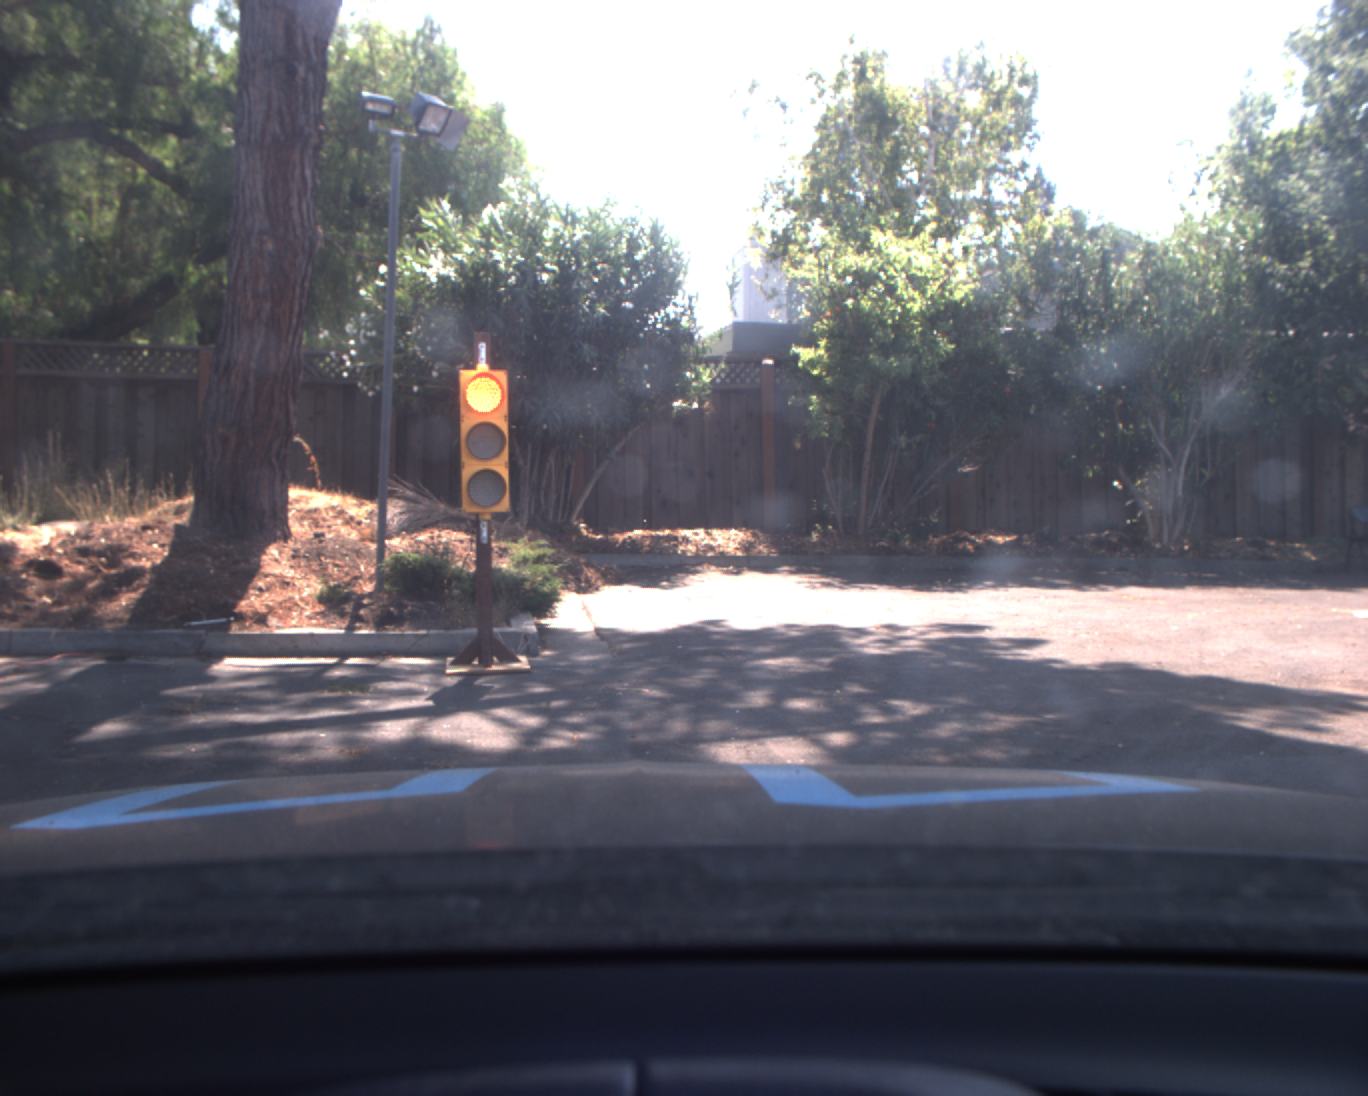red: (456, 365, 516, 518)
